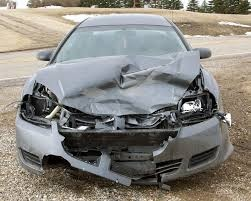Smashed: (15, 50, 228, 186)
